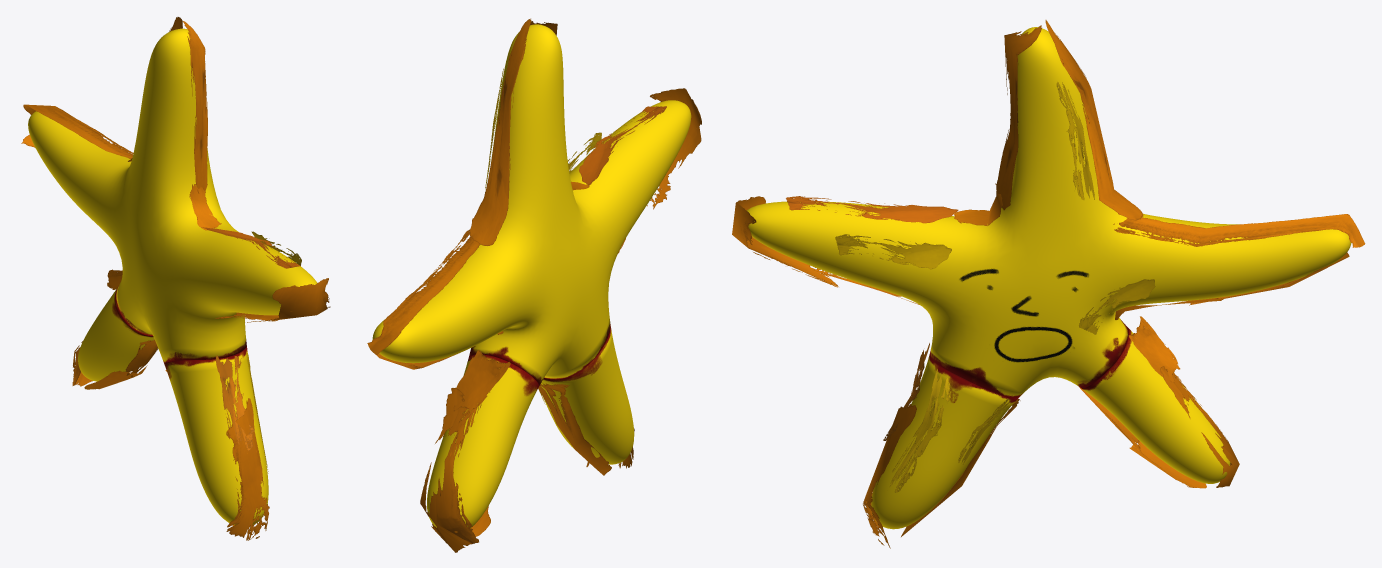
File: Starfish Broken Combined.fbx
3 views of the same model, side by side, from view 1: azimuth 30°, elevation 25°; view 2: azimuth 150°, elevation 25°; view 3: azimuth 270°, elevation 25° (orthographic). The views are drawn at different scales.
Parts seen in each view (by area): view 1: Starfish_Brushstrokes, Starfish_Brushstrokes_Legs.001, Starfish_Leg_R.002; view 2: Starfish_Brushstrokes, Starfish_Leg_R.002, Starfish_Brushstrokes_Legs.001; view 3: Starfish_Brushstrokes, Starfish_Brushstrokes_Legs.001, Starfish_Leg_R.002.
Part boxes in pixels (bbox=[...]): Starfish_Brushstrokes: bbox=[21, 17, 330, 363]; Starfish_Brushstrokes_Legs.001: bbox=[164, 345, 269, 540]; Starfish_Leg_R.002: bbox=[72, 269, 158, 389]; Starfish_Brushstrokes: bbox=[367, 18, 701, 386]; Starfish_Leg_R.002: bbox=[420, 350, 538, 552]; Starfish_Brushstrokes_Legs.001: bbox=[538, 324, 634, 475]; Starfish_Brushstrokes: bbox=[732, 20, 1365, 399]; Starfish_Brushstrokes_Legs.001: bbox=[863, 343, 1020, 548]; Starfish_Leg_R.002: bbox=[1079, 316, 1239, 488].
Size of the model in its own units: 92.32 by 534 by 570.
Materials: 3 (3 with a texture image).
